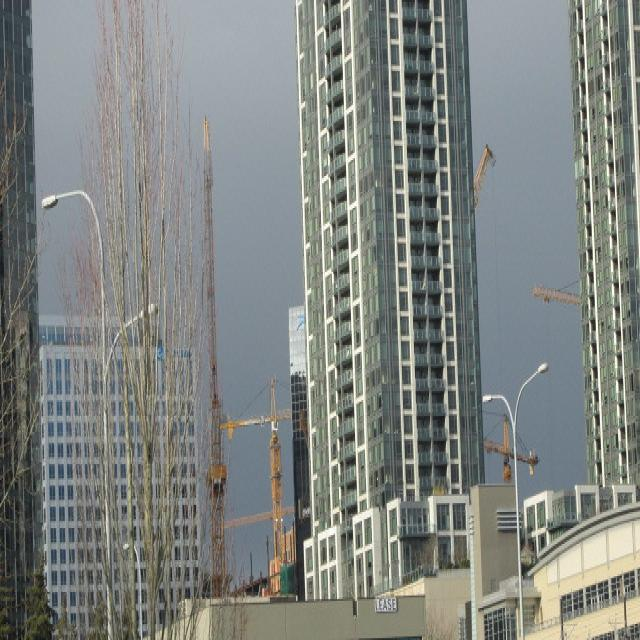Normal_building: (290, 5, 490, 617)
